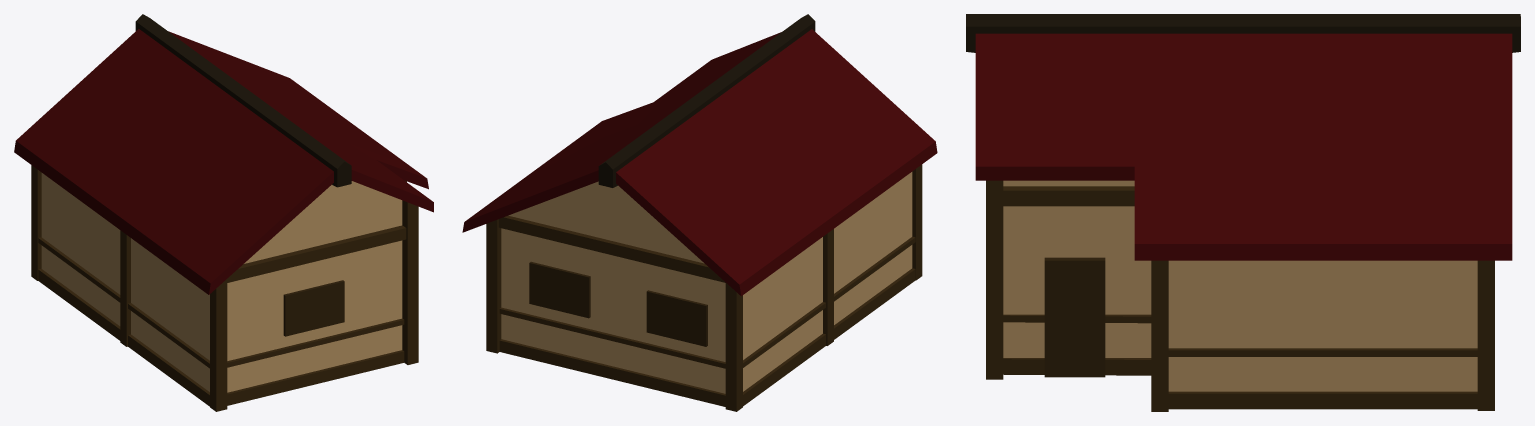
The model's file is FarmHouse(1).fbx.
3 views of the same model, side by side, from view 1: azimuth 30°, elevation 25°; view 2: azimuth 150°, elevation 25°; view 3: azimuth 270°, elevation 25° (orthographic). The views are drawn at different scales.
Visible parts, largest first — view 1: FarmHouse(1); view 2: FarmHouse(1); view 3: FarmHouse(1).
Boxes of the visible parts, left/top/right/bottom form: FarmHouse(1): left=14, top=14, right=433, bottom=411; FarmHouse(1): left=462, top=14, right=937, bottom=411; FarmHouse(1): left=966, top=14, right=1520, bottom=411.
Bounding box in the file's own units: 6.85 × 5.34 × 8.6.
